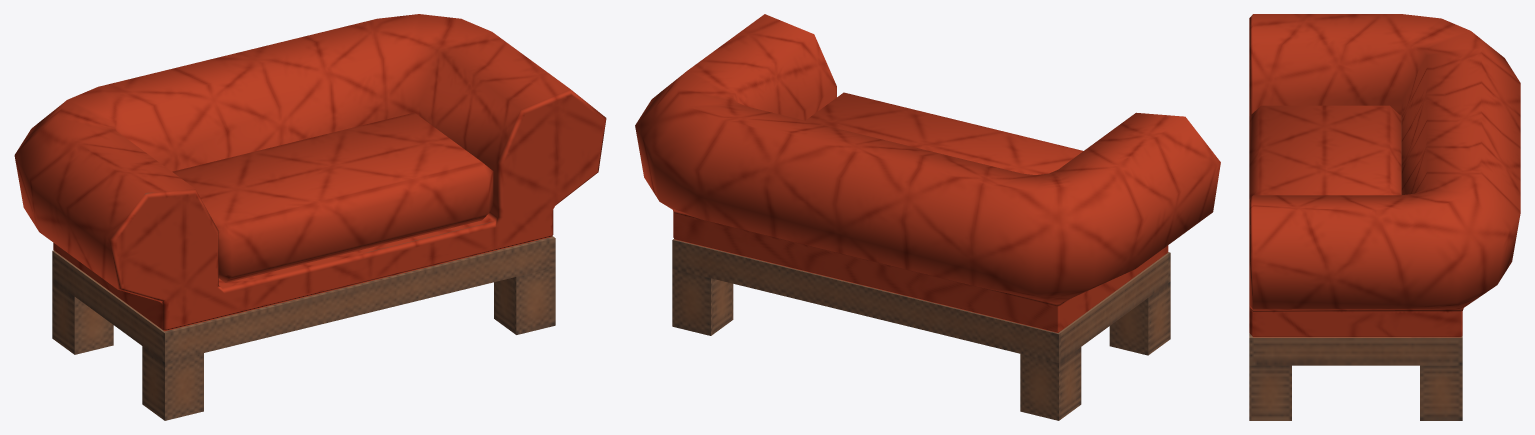
Rendered from couch.glb.
The picture shows the model from 3 angles, left to right: view 1: azimuth 30°, elevation 25°; view 2: azimuth 150°, elevation 25°; view 3: azimuth 270°, elevation 25°; orthographic projection. The views are drawn at different scales.
Parts seen in each view (by area): view 1: couch_pad.001, couch_seat.001, couch_bottom.001, couch_feet.001; view 2: couch_pad.001, couch_bottom.001, couch_feet.001, couch_seat.001; view 3: couch_pad.001, couch_seat.001, couch_bottom.001, couch_feet.001.
Boxes of the visible parts, x1,y1,x2,y2 form: couch_pad.001: (14,14,606,331); couch_seat.001: (172,112,493,282); couch_bottom.001: (52,236,555,362); couch_feet.001: (52,267,555,420); couch_pad.001: (635,14,1220,332); couch_bottom.001: (672,239,1170,362); couch_feet.001: (672,269,1170,420); couch_seat.001: (806,92,1083,174); couch_pad.001: (1249,14,1520,337); couch_seat.001: (1249,105,1401,198); couch_bottom.001: (1249,333,1462,365); couch_feet.001: (1249,365,1462,420).
Size of the model in its own units: 1.78 by 0.7902 by 0.8902.
1 material, 1 textured.
